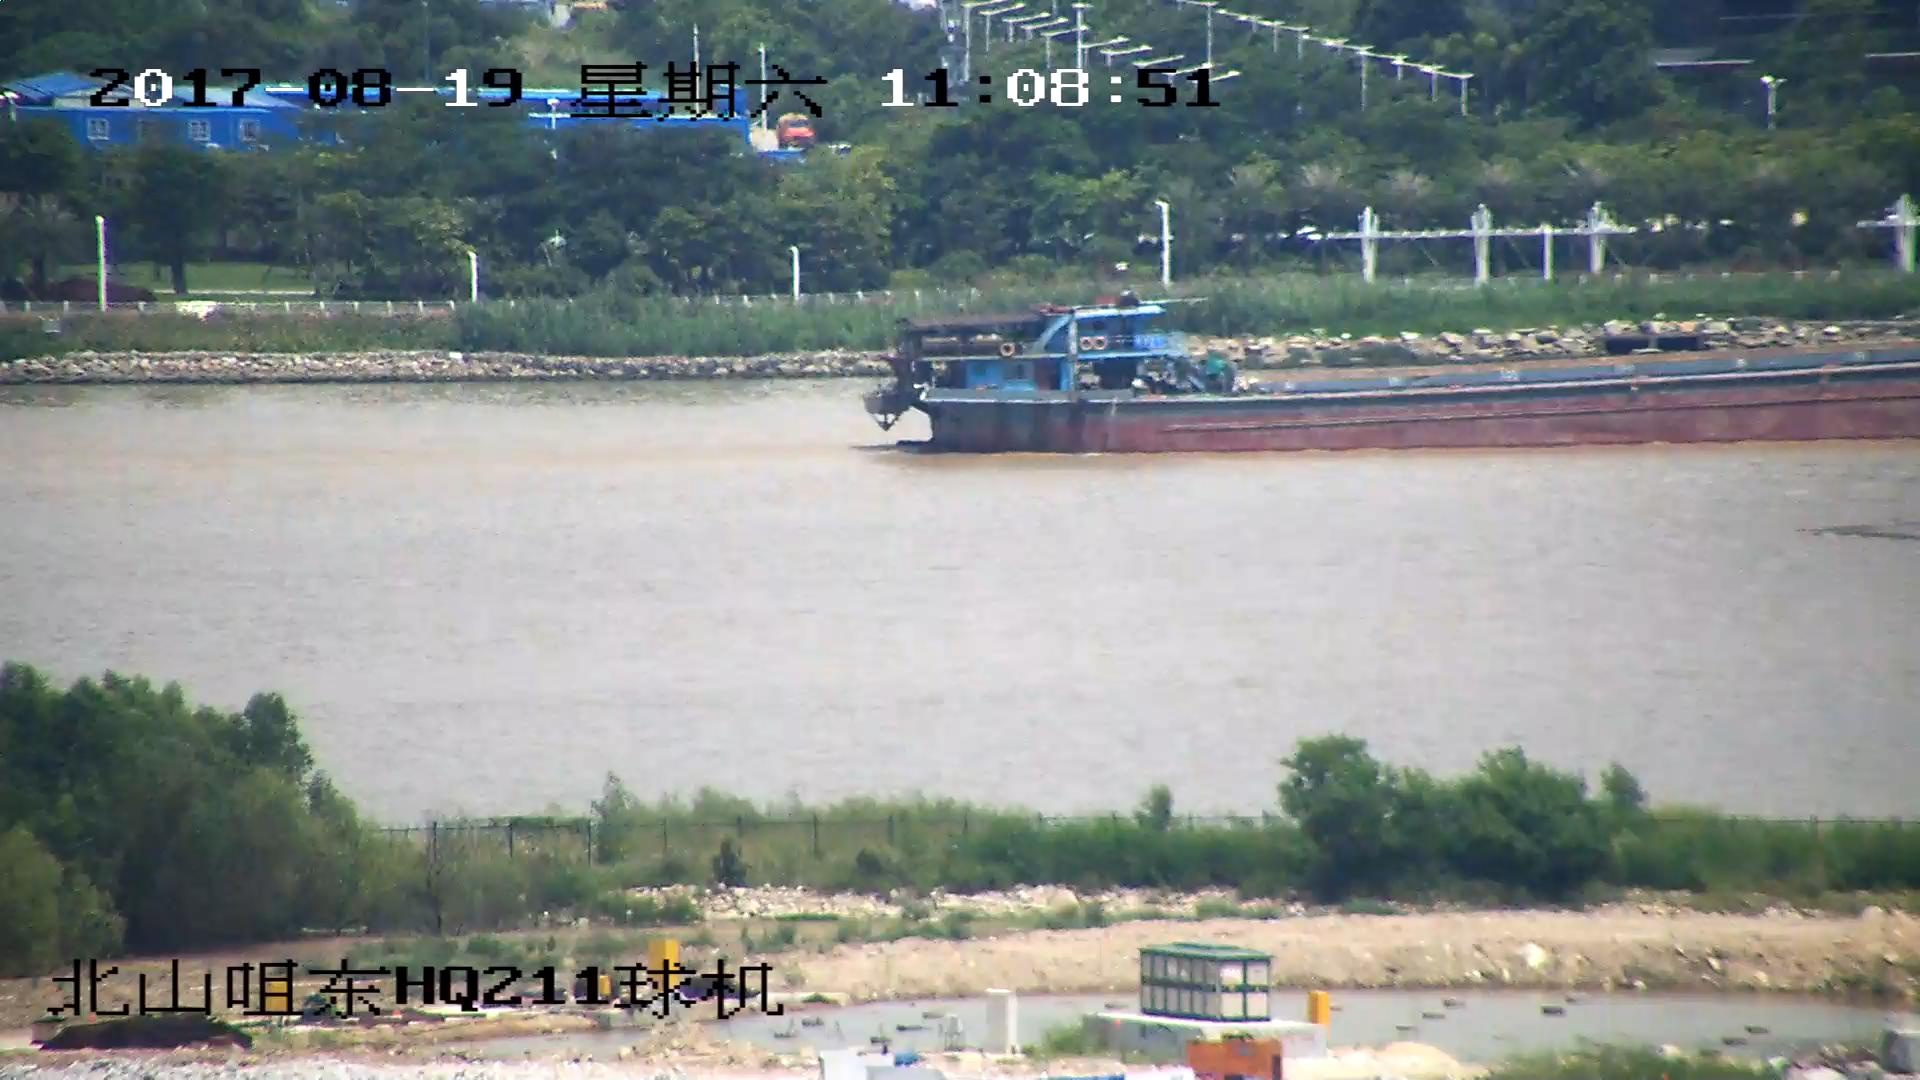bulk cargo carrier: (870, 295, 1920, 458)
